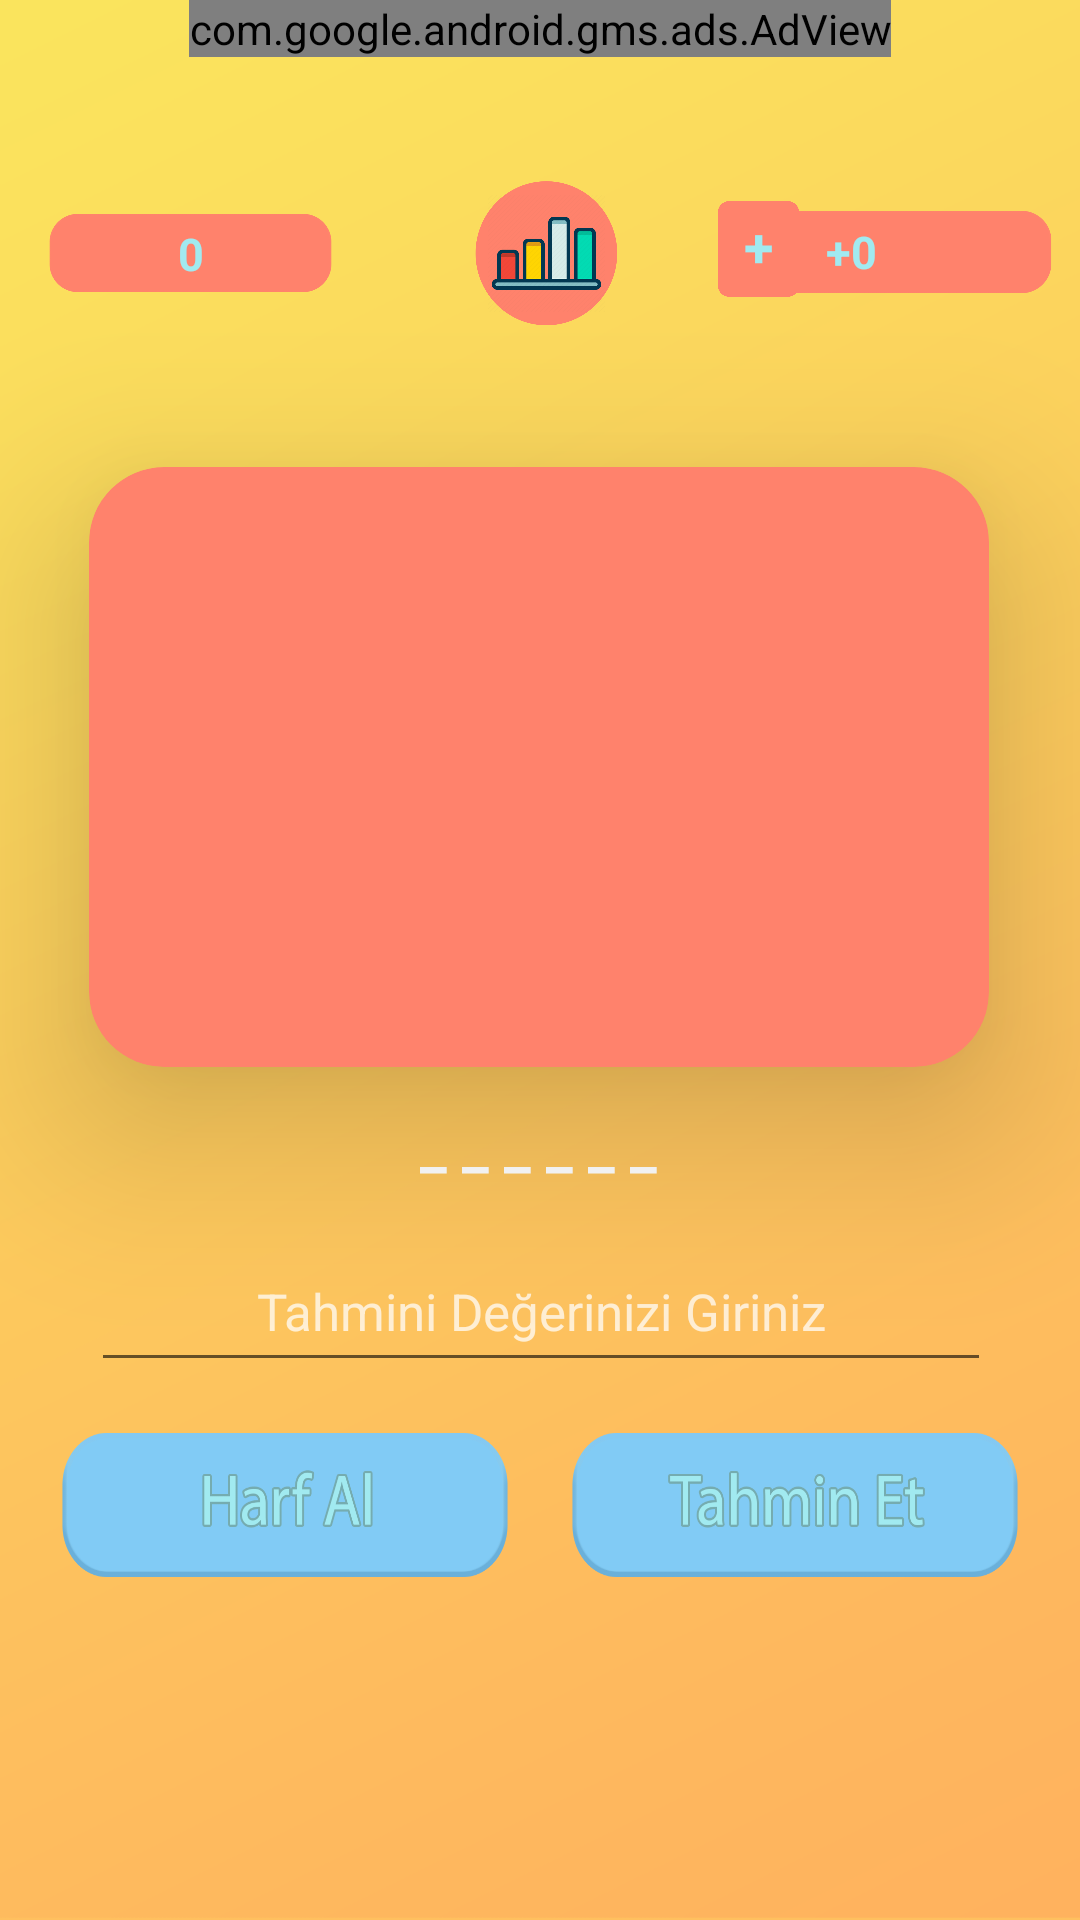

Icon bounding boxes for this 1080px x 1920px phone screenshot, format (x1, y1, x2, y2):
statisticimage: (475, 181, 617, 325)
